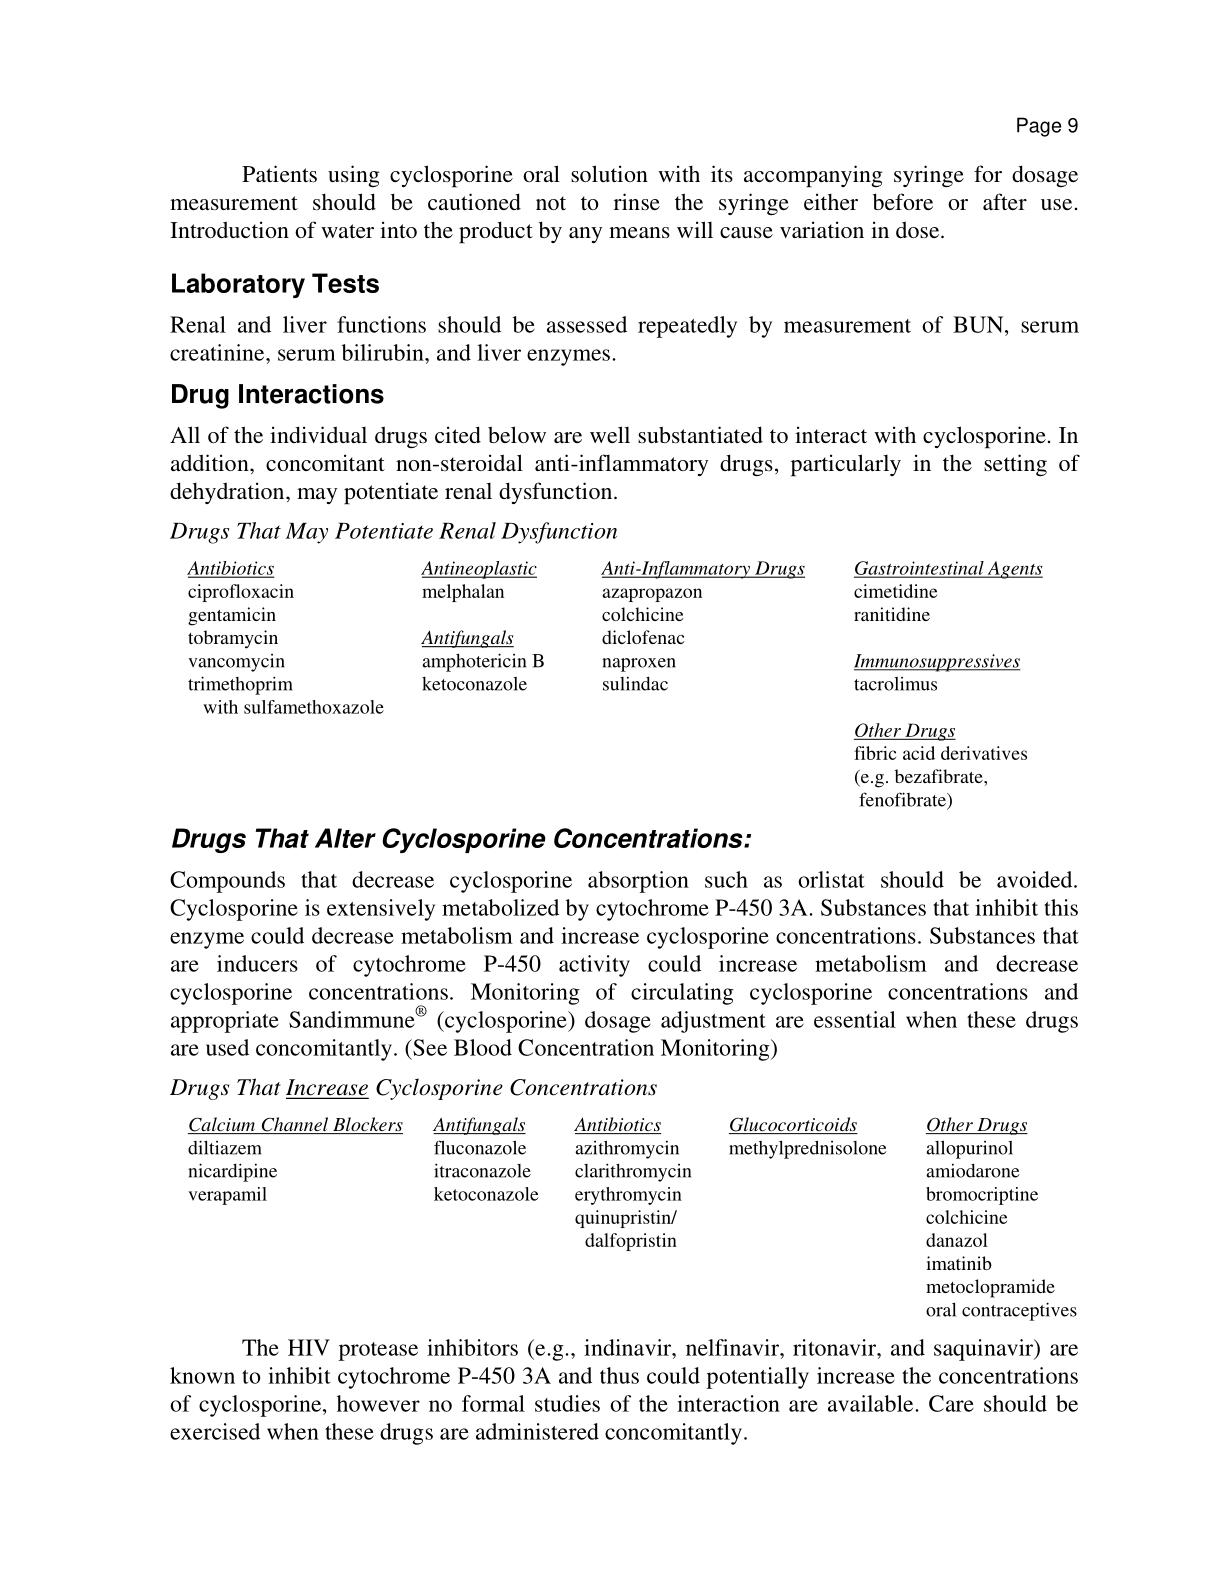nolines: (183, 555, 1047, 809), (185, 1113, 1079, 1320)
